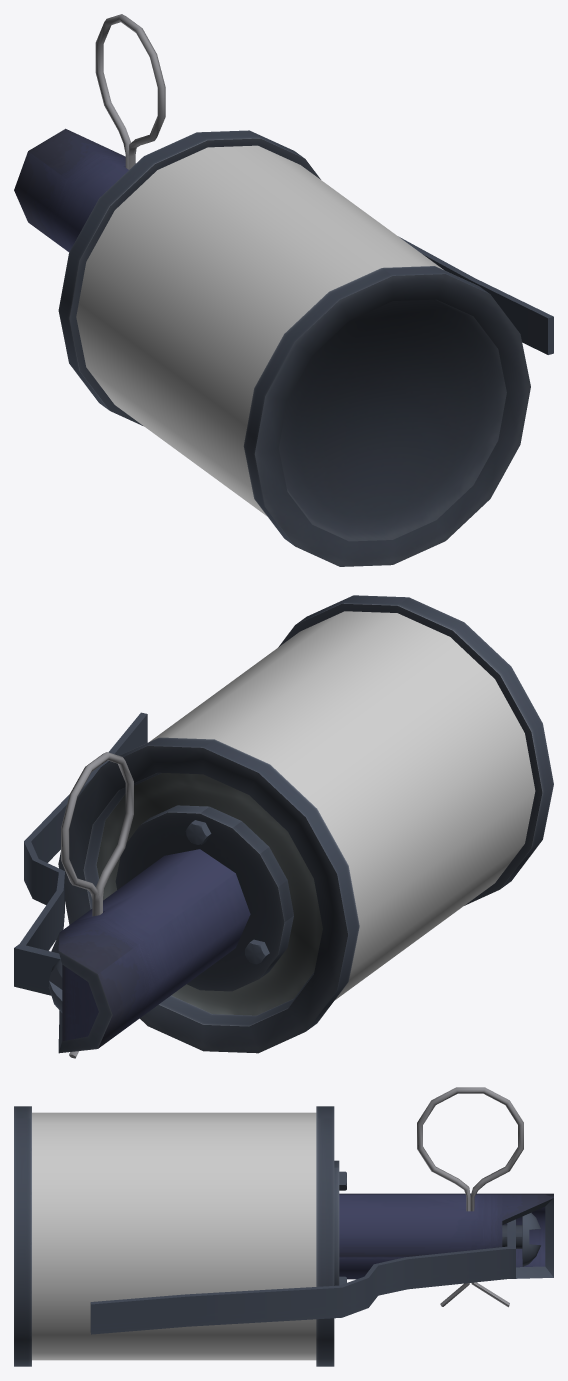
The model's file is Frag_Preview.fbx.
3 views of the same model, one above another, from view 1: azimuth 30°, elevation 25°; view 2: azimuth 150°, elevation 25°; view 3: azimuth 270°, elevation 25° (orthographic). The views are drawn at different scales.
Visible parts, largest first — view 1: Granade.003; view 2: Granade.003; view 3: Granade.003.
Part boxes in pixels (x1,y1,x2,y2): Granade.003: [14, 14, 553, 566]; Granade.003: [14, 595, 553, 1058]; Granade.003: [14, 1087, 553, 1366].
Bounding box in the file's own units: 0.5211 × 0.4826 × 0.8614.
